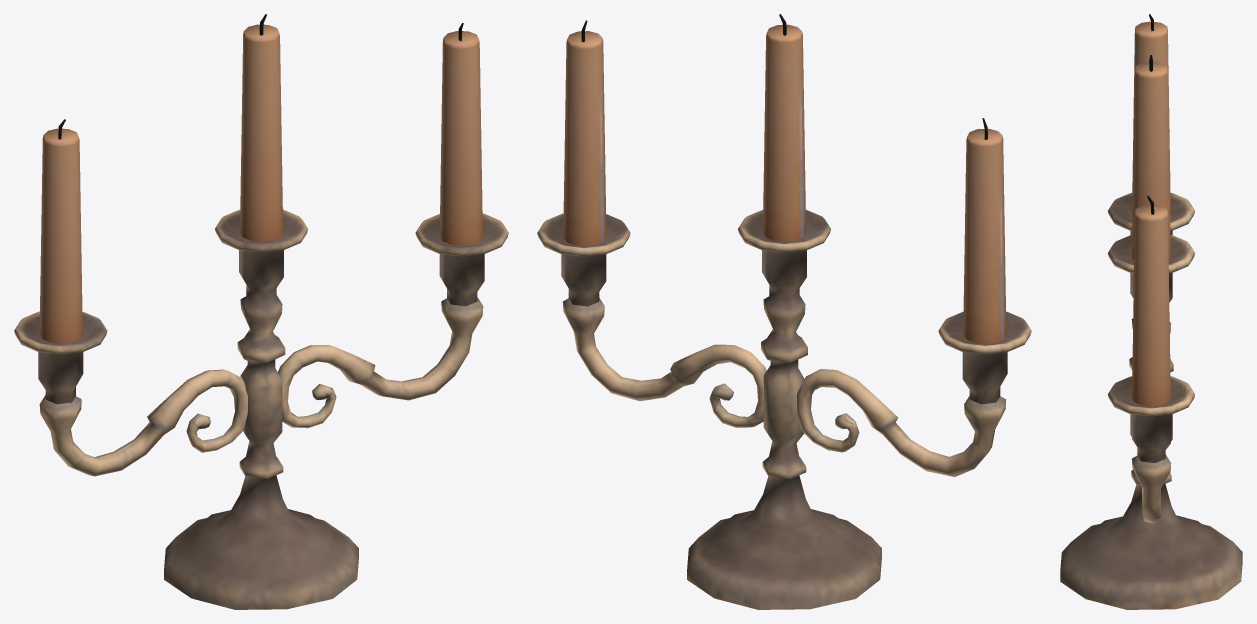
The model's file is LP_CandleHolder_Triple.FBX.
3 renders of one model, left to right at view 1: azimuth 30°, elevation 25°; view 2: azimuth 150°, elevation 25°; view 3: azimuth 270°, elevation 25°, orthographic. The views are drawn at different scales.
Visible parts, largest first — view 1: LP_CandleHolder_Triple; view 2: LP_CandleHolder_Triple; view 3: LP_CandleHolder_Triple.
Boxes of the visible parts, left/top/right/bottom form: LP_CandleHolder_Triple: left=14, top=14, right=508, bottom=609; LP_CandleHolder_Triple: left=537, top=14, right=1031, bottom=609; LP_CandleHolder_Triple: left=1060, top=14, right=1242, bottom=609.
Size of the model in its own units: 38.14 by 41.83 by 13.35.
